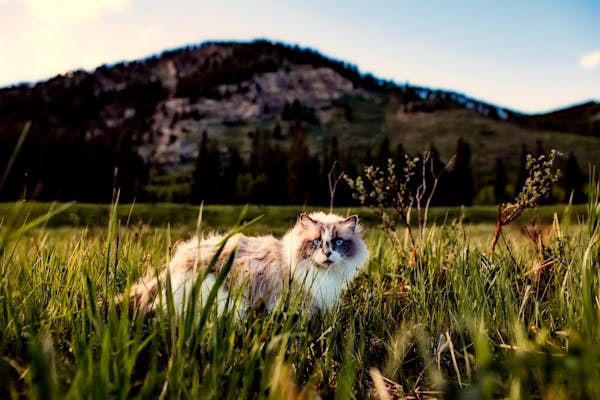Cat: (130, 212, 368, 321)
